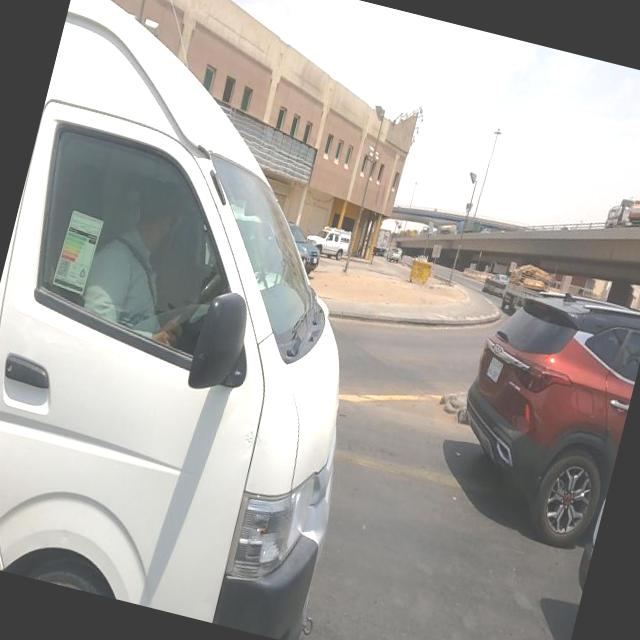debris: (175, 82, 382, 212)
